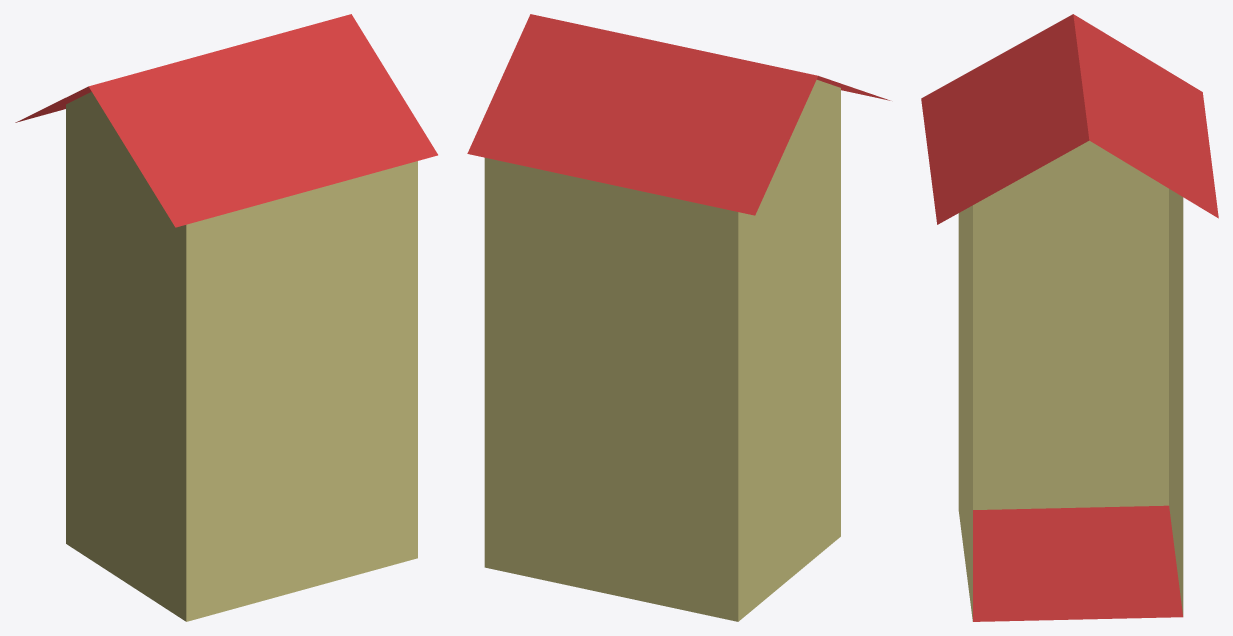
3 renders of one model, left to right at view 1: azimuth 30°, elevation 25°; view 2: azimuth 150°, elevation 25°; view 3: azimuth 270°, elevation 25°, orthographic. The views are drawn at different scales.
Size of the model in its own units: 6.61 by 6.26 by 11.1.
